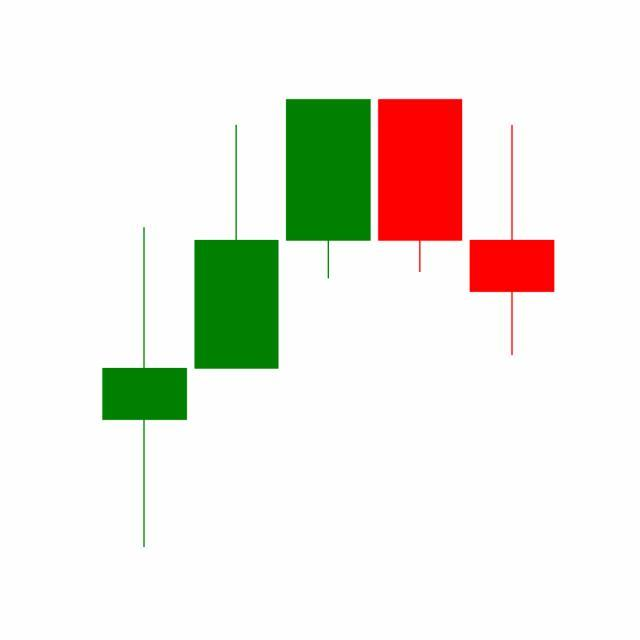Spinning Top: (466, 123, 559, 360)
